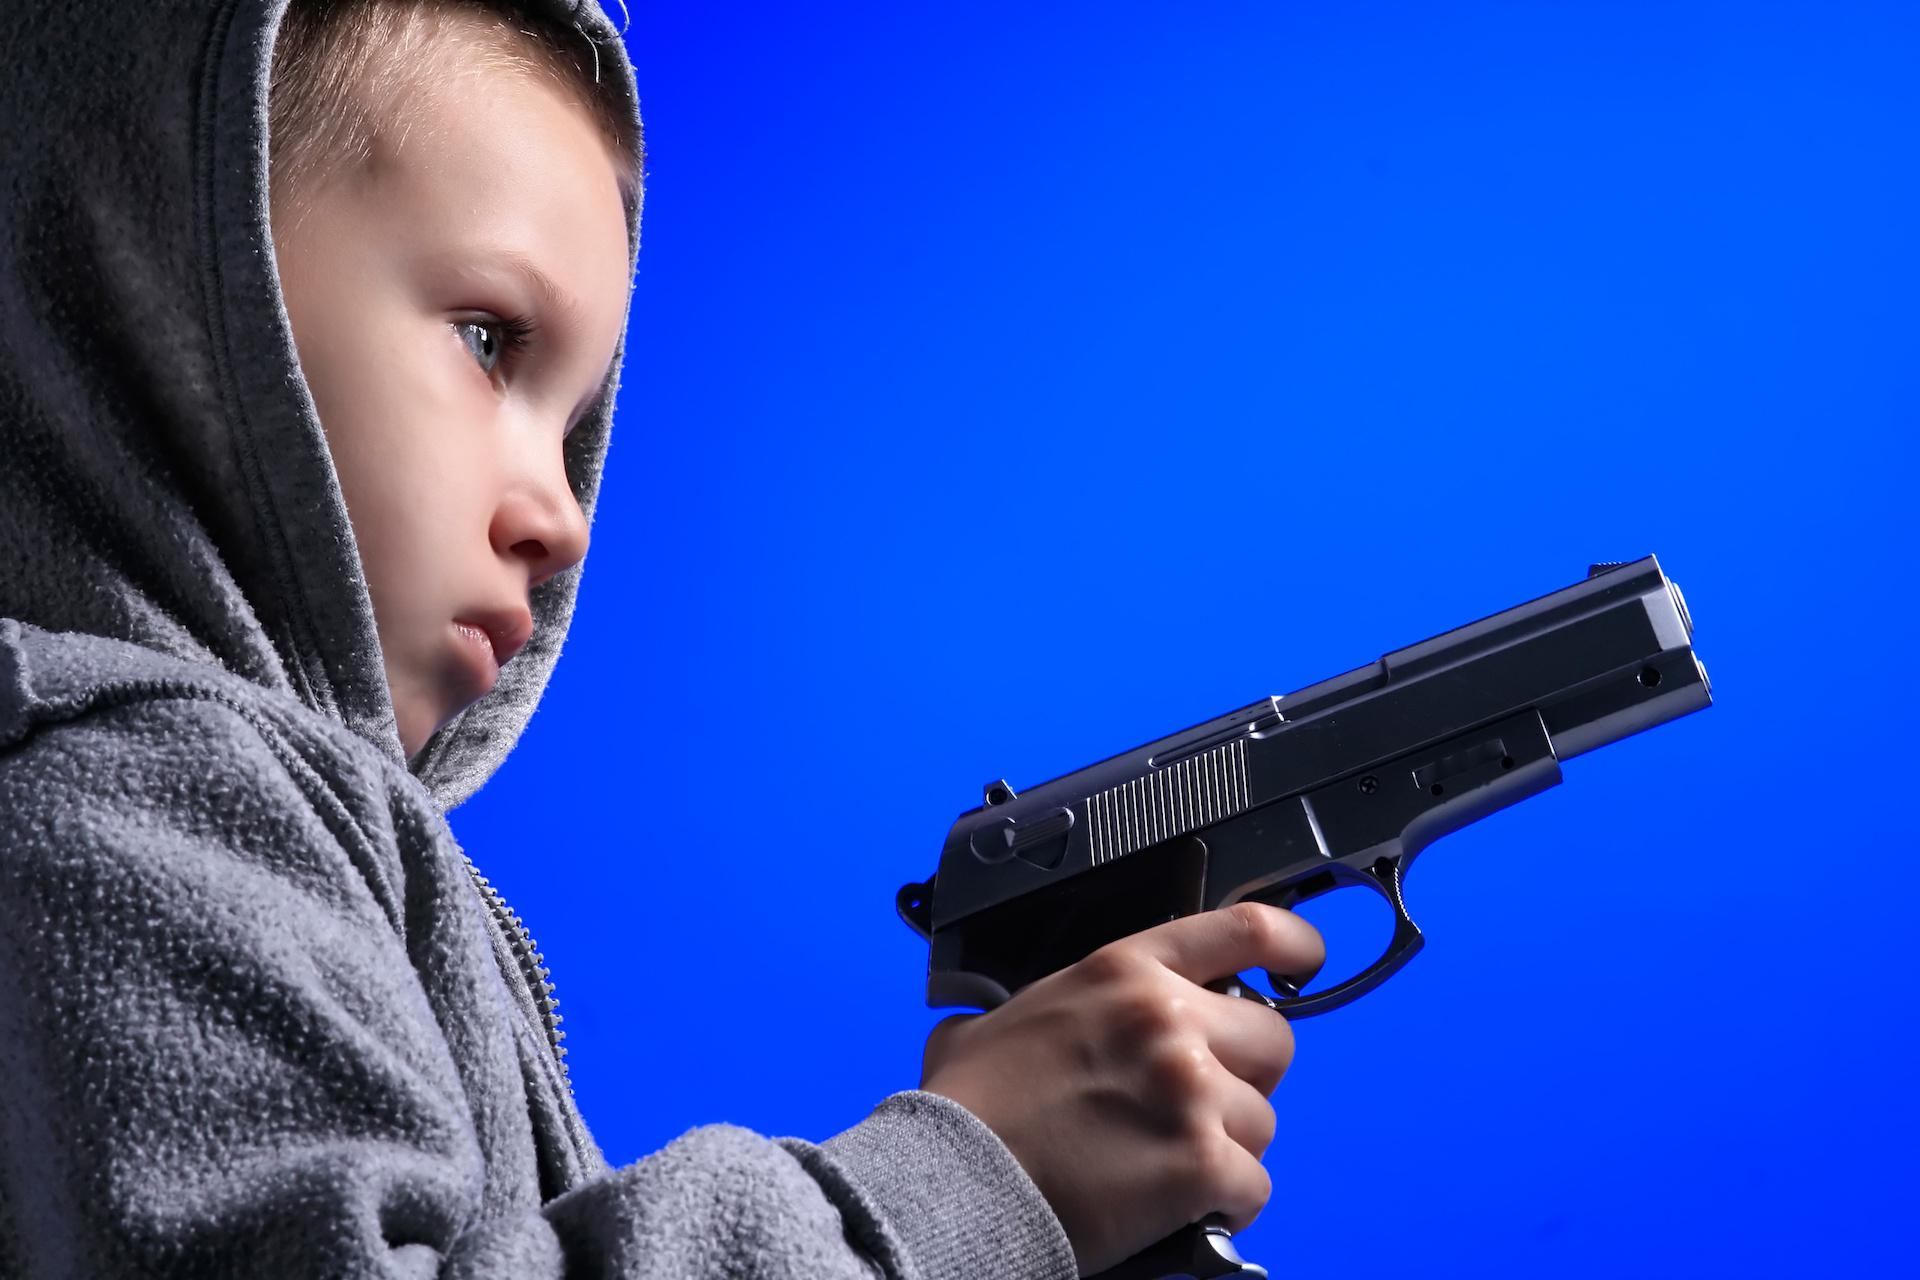criminal: (0, 0, 1716, 1280)
weapon: (896, 549, 1716, 1280)
